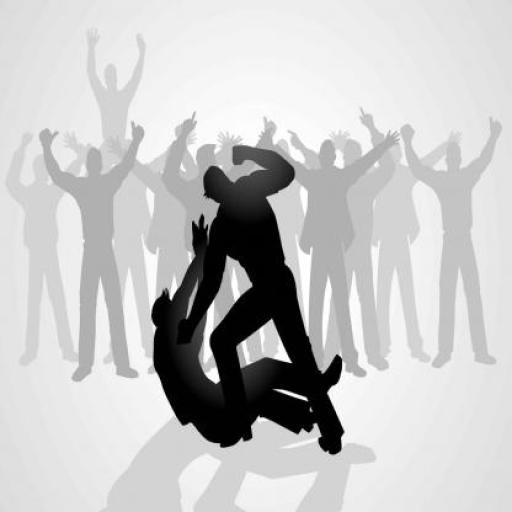Fighting: (150, 145, 346, 464)
